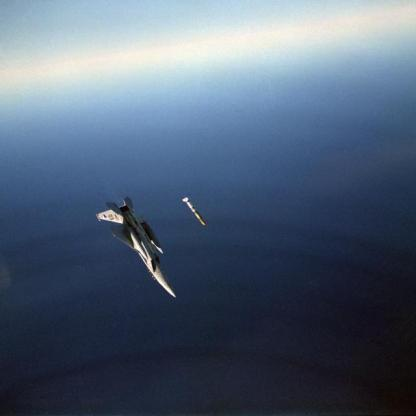MIL_TBM: (180, 194, 211, 230)
